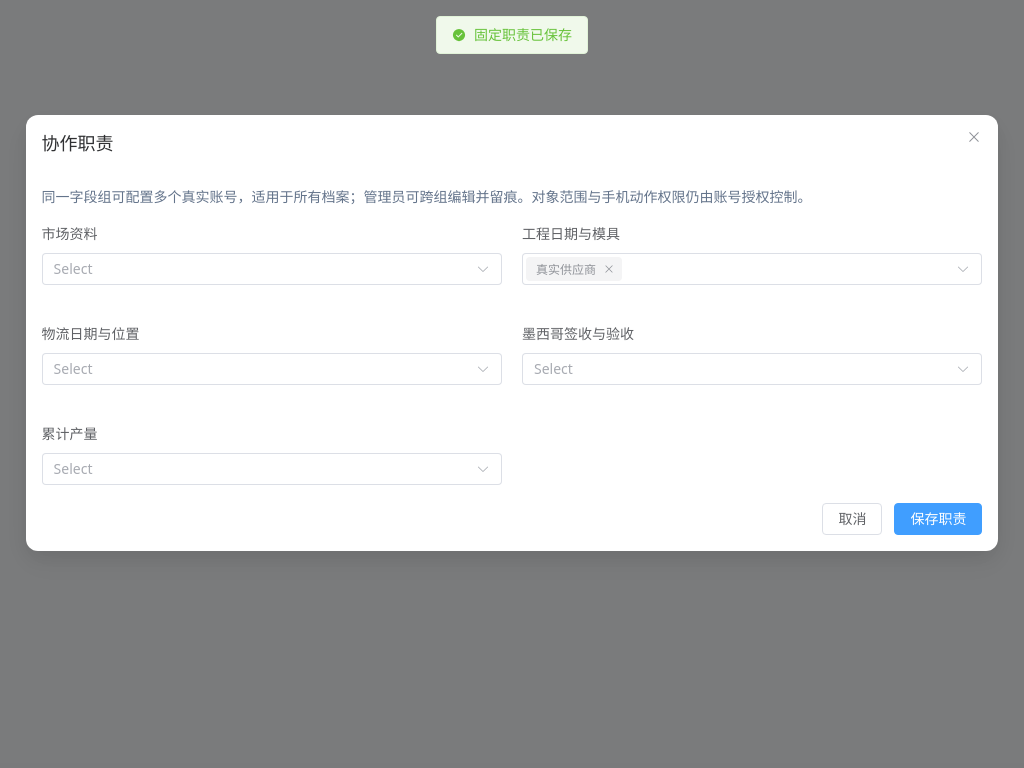
Test: one collaboration assignment editor in both surfaces › loads the same editor lazily in the original dialog and retains rejected edits
This screenshot has width=1024, height=768.
What coordinates should you click on to do the following:
click the button "保存职责"
I would click on:
 (938, 519)
Its box is [894, 503, 982, 535].
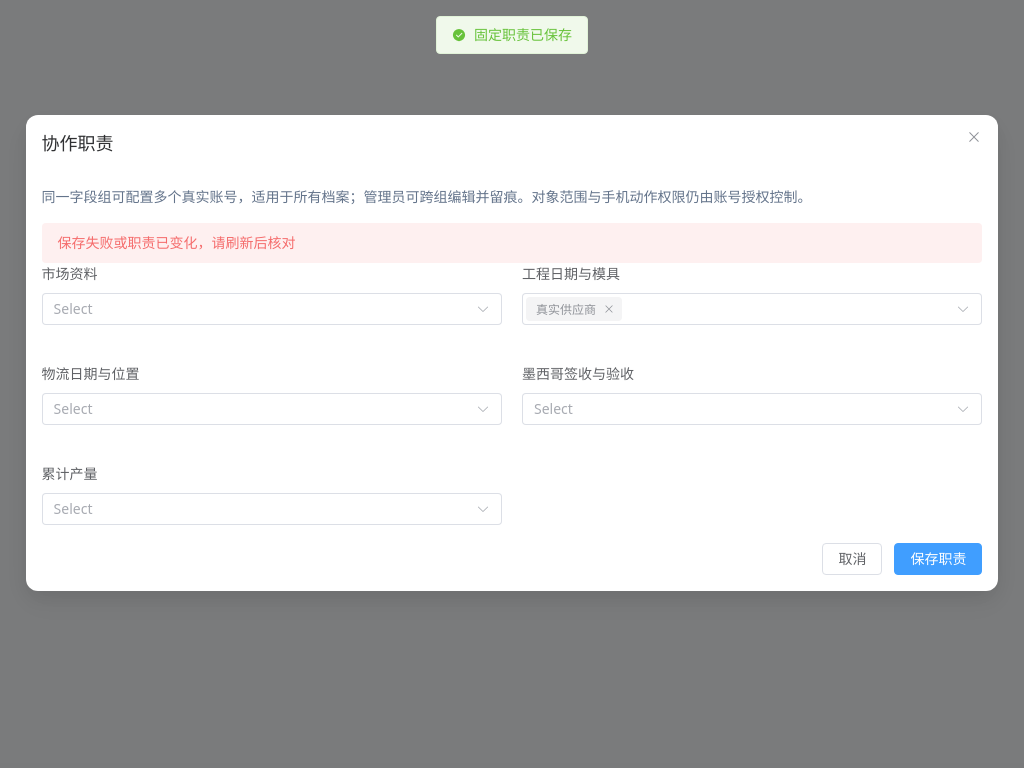
Now the text "职责已变化" is shown, box [58, 233, 296, 252]
